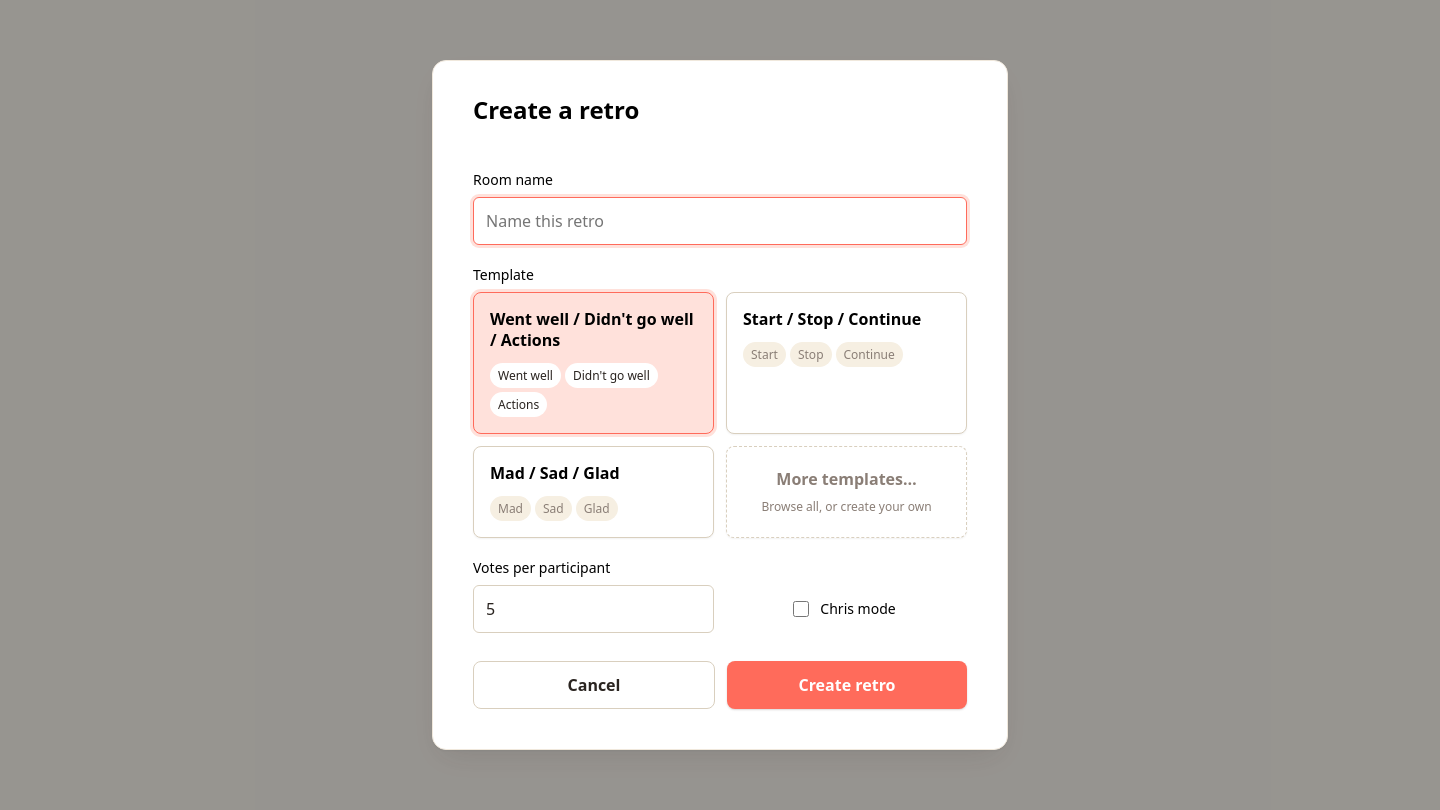
Test case: CreateRoomModal › blocks submit when name is empty
Click the button "Create retro".
click(847, 685)  # box [727,661,967,709]
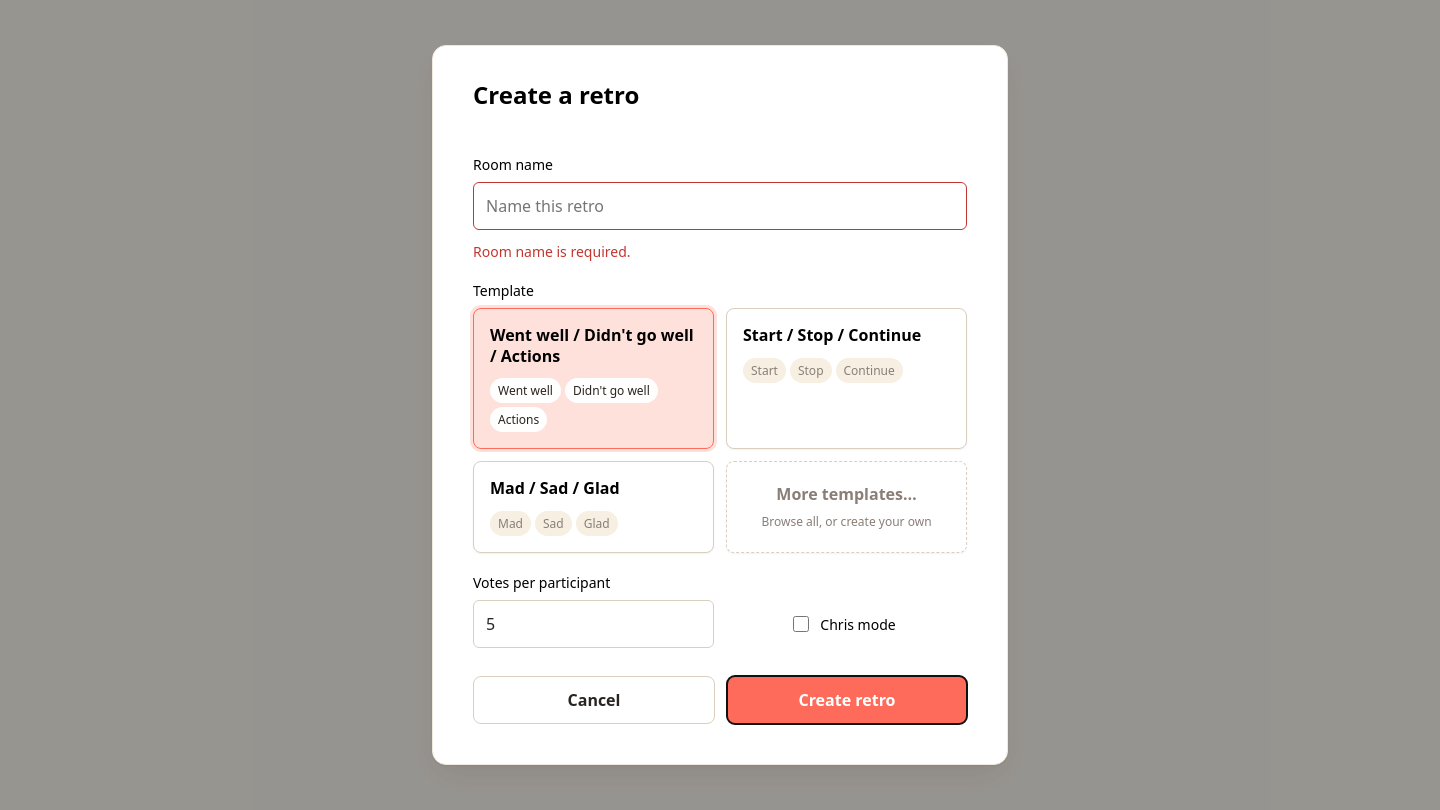
Expected: the message shows "required", [473,242,630,261]
